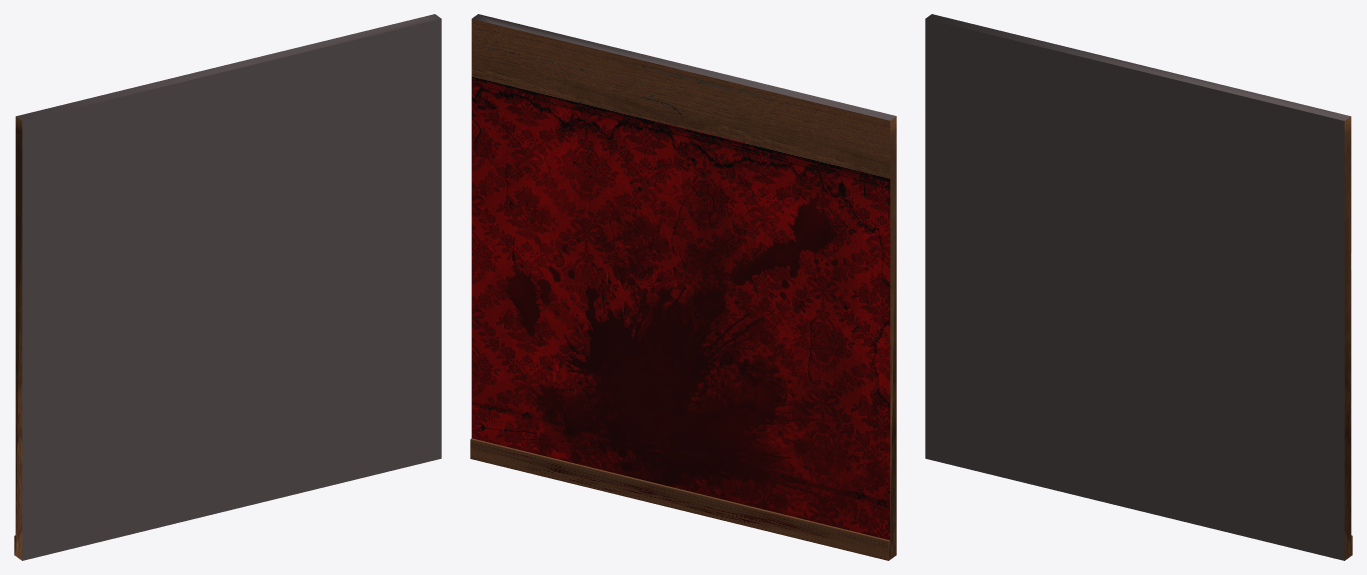
The model's file is wall__blood.FBX.
3 renders of one model, left to right at view 1: azimuth 30°, elevation 25°; view 2: azimuth 150°, elevation 25°; view 3: azimuth 330°, elevation 25°, orthographic.
Visible parts, largest first — view 1: Wall_Mid_blud; view 2: Wall_Mid_blud; view 3: Wall_Mid_blud.
Boxes of the visible parts, x1,y1,x2,y2 form: Wall_Mid_blud: (14,14,441,560); Wall_Mid_blud: (470,14,896,560); Wall_Mid_blud: (925,14,1352,560).
Size of the model in its own units: 78.74 by 78.93 by 2.59.
